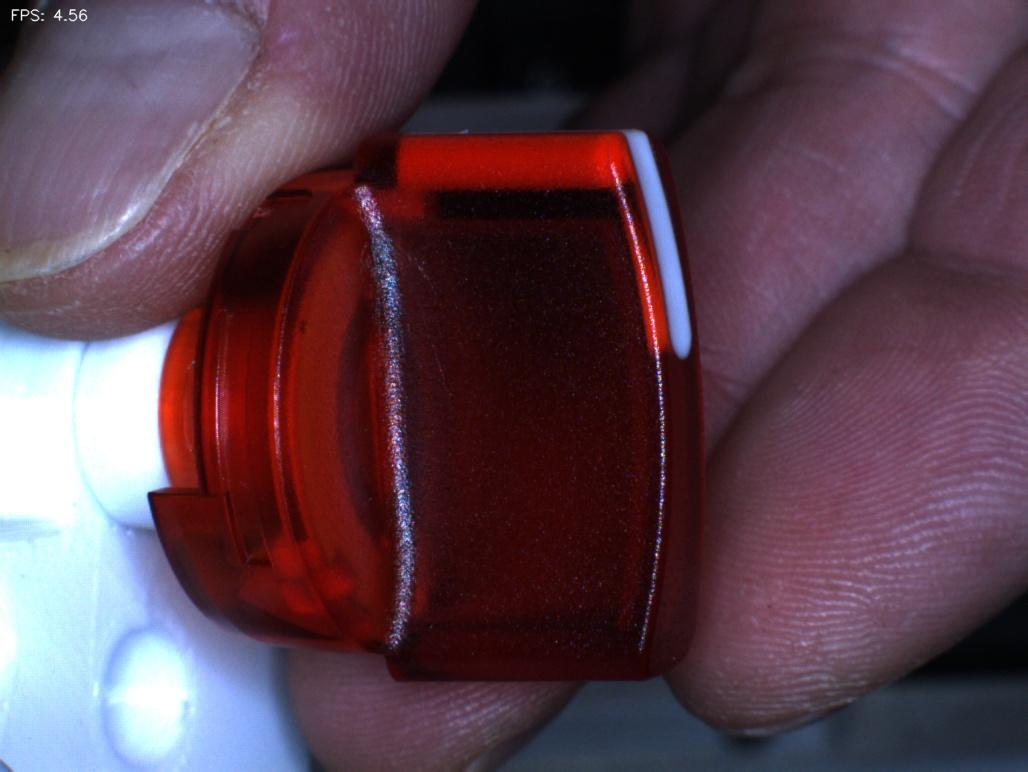Givrage: (352, 221, 448, 387)
